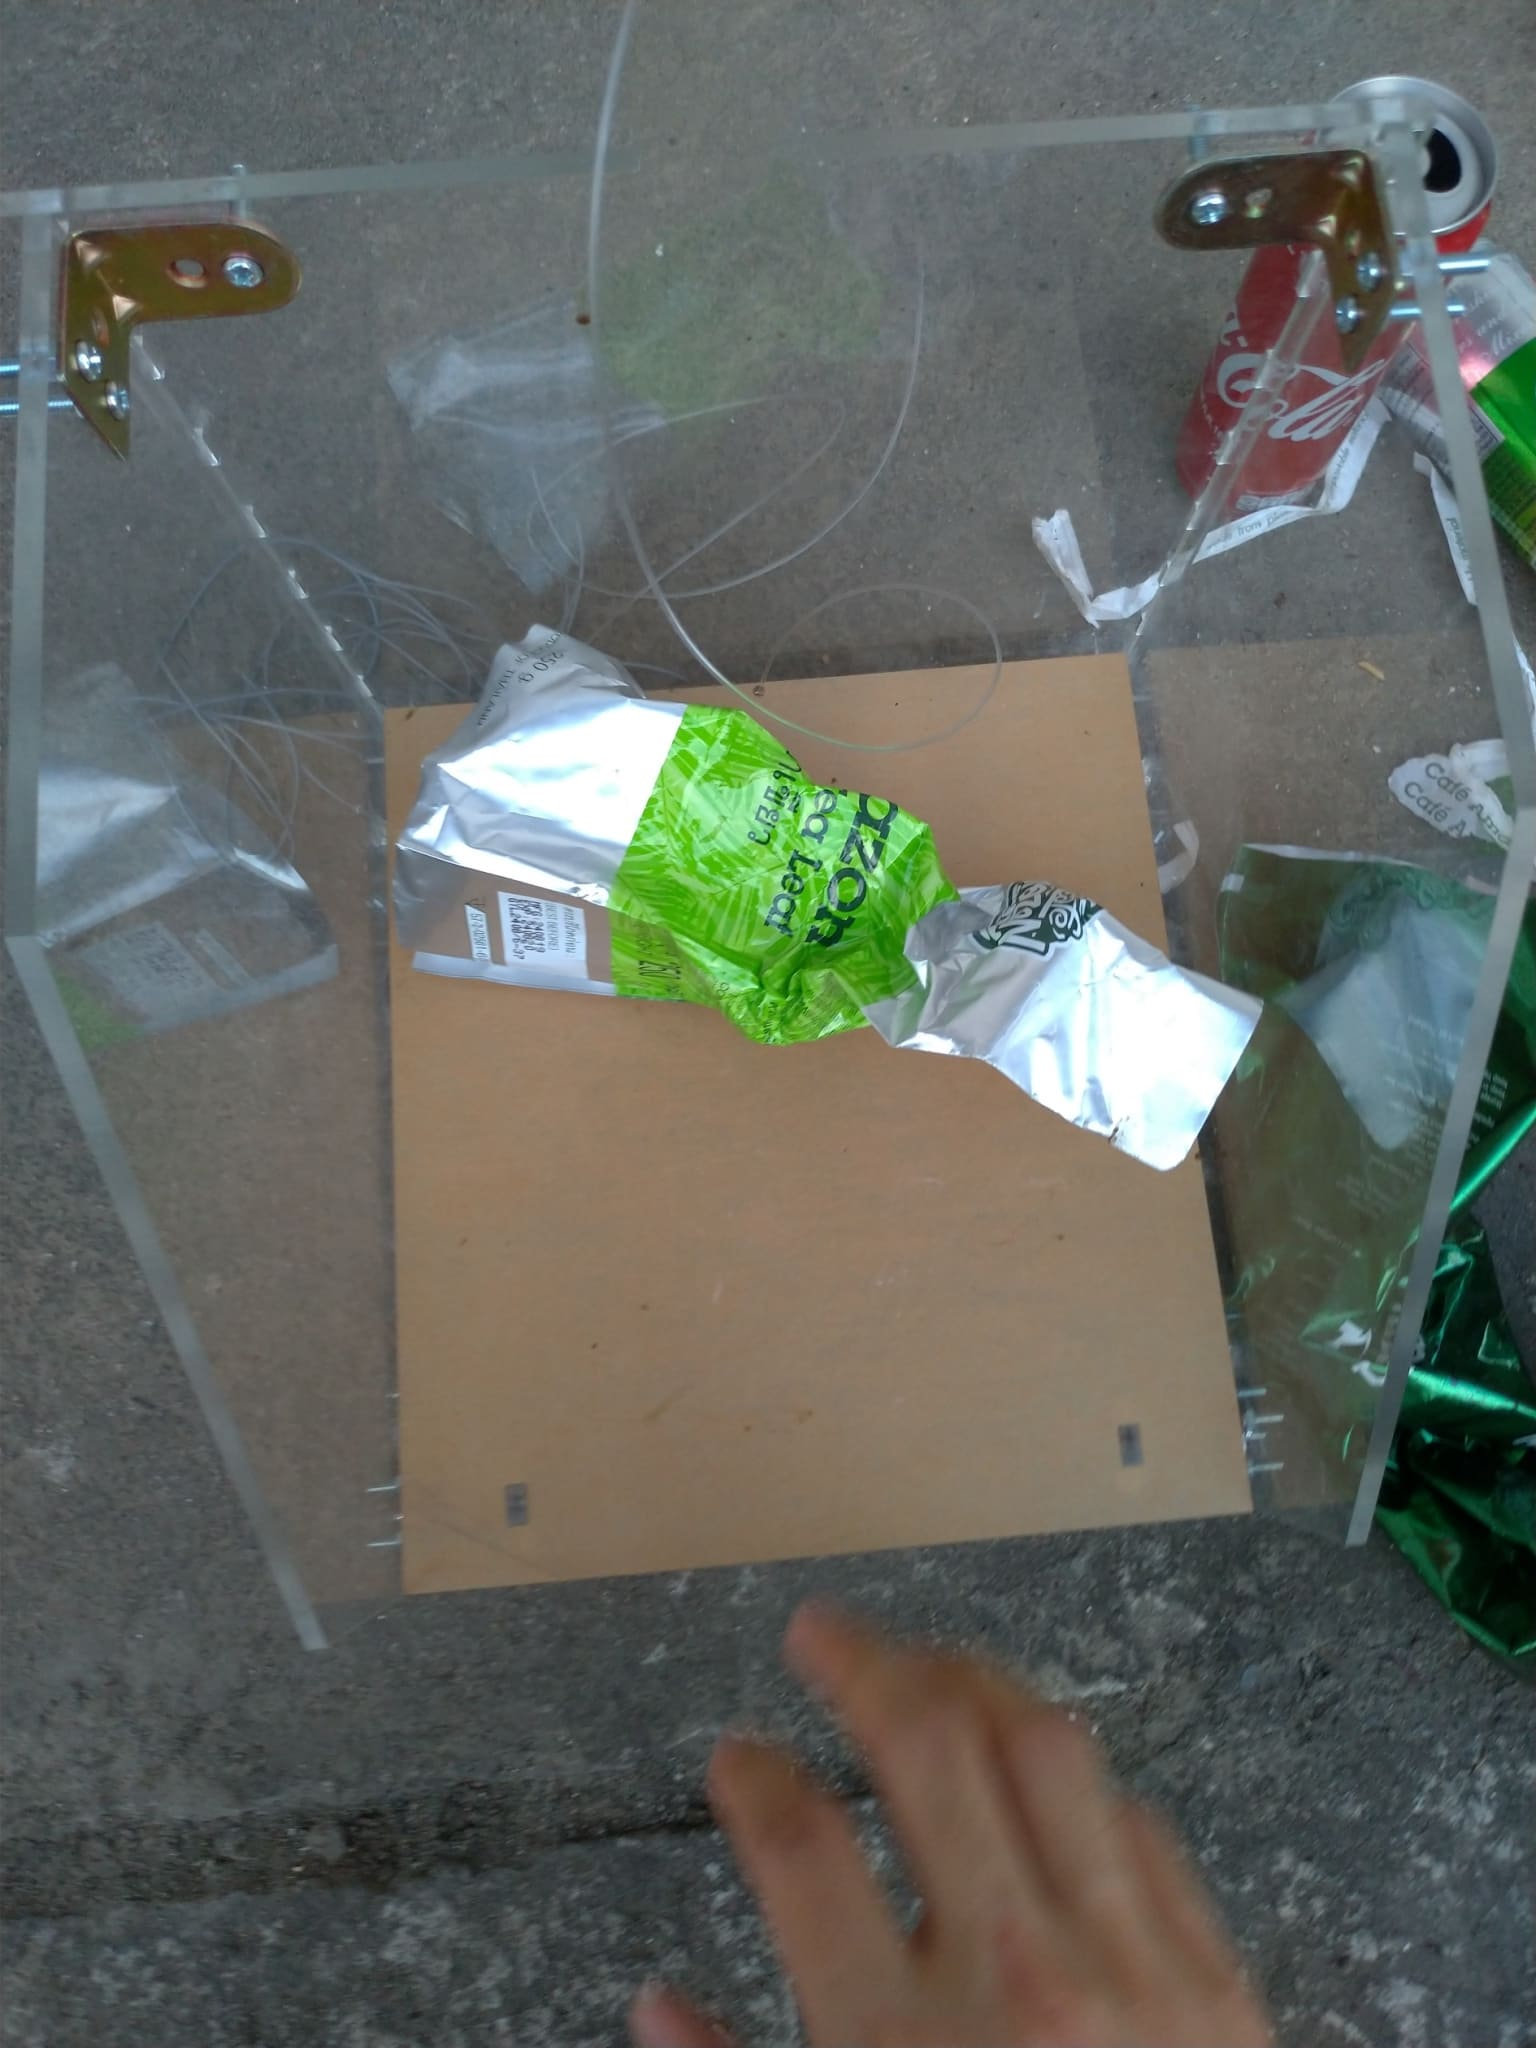AlCan: (1184, 81, 1497, 498), (1400, 245, 1536, 534)
Others: (386, 622, 1260, 1172), (1210, 834, 1536, 1658), (1041, 405, 1388, 611), (1379, 445, 1534, 842)
